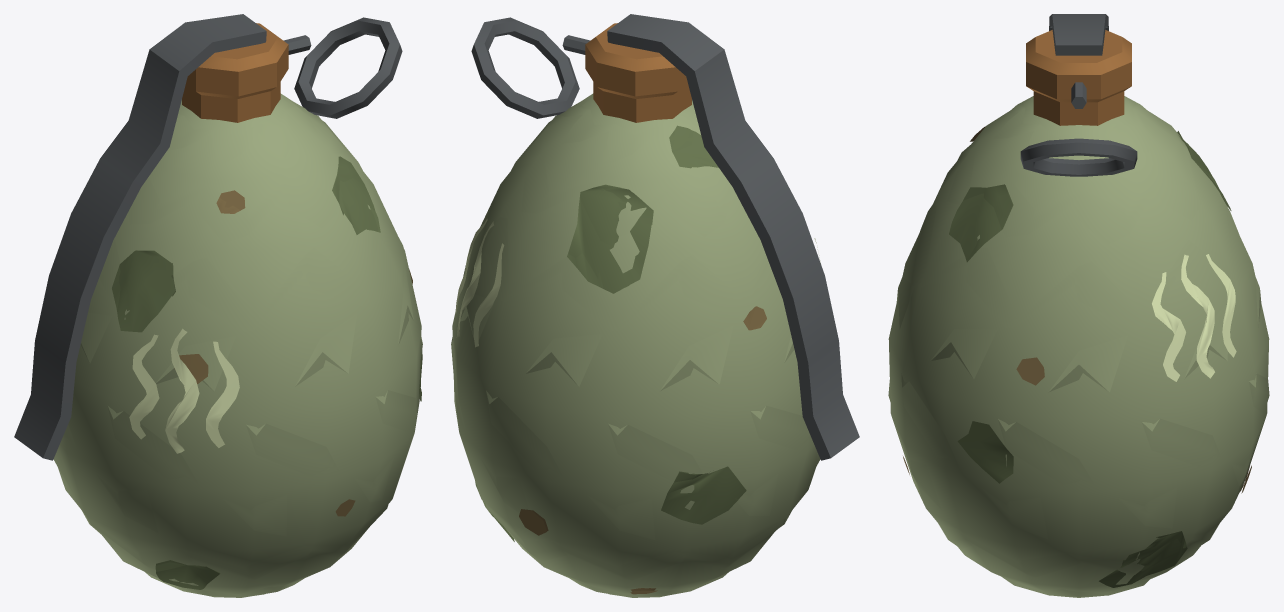
The model's file is smokeegg.glb.
3 views of the same model, side by side, from view 1: azimuth 30°, elevation 25°; view 2: azimuth 150°, elevation 25°; view 3: azimuth 270°, elevation 25° (orthographic).
Parts seen in each view (by area): view 1: Egg, Egg_Spoon, Egg_ShellTop, Egg_ShellBottom, Egg_Pin; view 2: Egg, Egg_Spoon, Egg_ShellTop, Egg_ShellBottom, Egg_Pin; view 3: Egg, Egg_ShellTop, Egg_ShellBottom, Egg_Pin, Egg_Spoon.
Part boxes in pixels (bbox=[...]): Egg: bbox=[58, 23, 422, 597]; Egg_Spoon: bbox=[14, 14, 266, 460]; Egg_ShellTop: bbox=[81, 93, 422, 435]; Egg_ShellBottom: bbox=[53, 305, 422, 597]; Egg_Pin: bbox=[283, 17, 402, 118]; Egg: bbox=[452, 23, 820, 597]; Egg_Spoon: bbox=[607, 14, 859, 460]; Egg_ShellTop: bbox=[451, 93, 792, 435]; Egg_ShellBottom: bbox=[451, 306, 820, 597]; Egg_Pin: bbox=[471, 17, 590, 118]; Egg: bbox=[888, 30, 1269, 597]; Egg_ShellTop: bbox=[898, 96, 1259, 431]; Egg_ShellBottom: bbox=[888, 290, 1269, 596]; Egg_Pin: bbox=[1020, 82, 1137, 176]; Egg_Spoon: bbox=[1049, 14, 1108, 55].
Bounding box in the file's own units: 0.0944 × 0.1362 × 0.0852.
